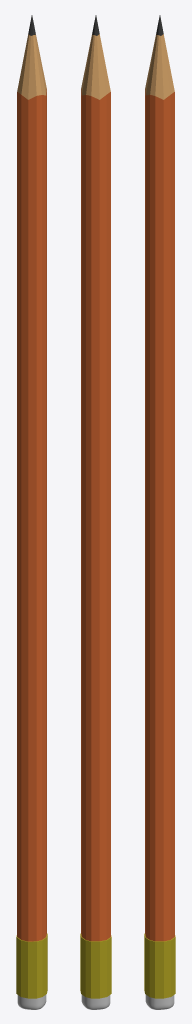
Rendered from Pencilblend.fbx.
The picture shows the model from 3 angles, left to right: view 1: azimuth 30°, elevation 25°; view 2: azimuth 150°, elevation 25°; view 3: azimuth 330°, elevation 25°; orthographic projection.
Parts seen in each view (by area): view 1: Cube, Cube.003, Cube.001, Cube.004; view 2: Cube, Cube.003, Cube.001, Cube.004; view 3: Cube, Cube.003, Cube.001, Cube.004.
Boxes of the visible parts, left/top/right/bottom form: Cube: left=17, top=89, right=46, bottom=941; Cube.003: left=16, top=933, right=47, bottom=998; Cube.001: left=17, top=34, right=46, bottom=99; Cube.004: left=17, top=994, right=46, bottom=1009; Cube: left=81, top=89, right=110, bottom=941; Cube.003: left=80, top=933, right=111, bottom=998; Cube.001: left=81, top=34, right=110, bottom=99; Cube.004: left=81, top=994, right=110, bottom=1009; Cube: left=145, top=89, right=174, bottom=941; Cube.003: left=144, top=933, right=175, bottom=998; Cube.001: left=145, top=34, right=174, bottom=99; Cube.004: left=145, top=994, right=174, bottom=1009.
Size of the model in its own units: 2.1 by 74.39 by 2.1.
